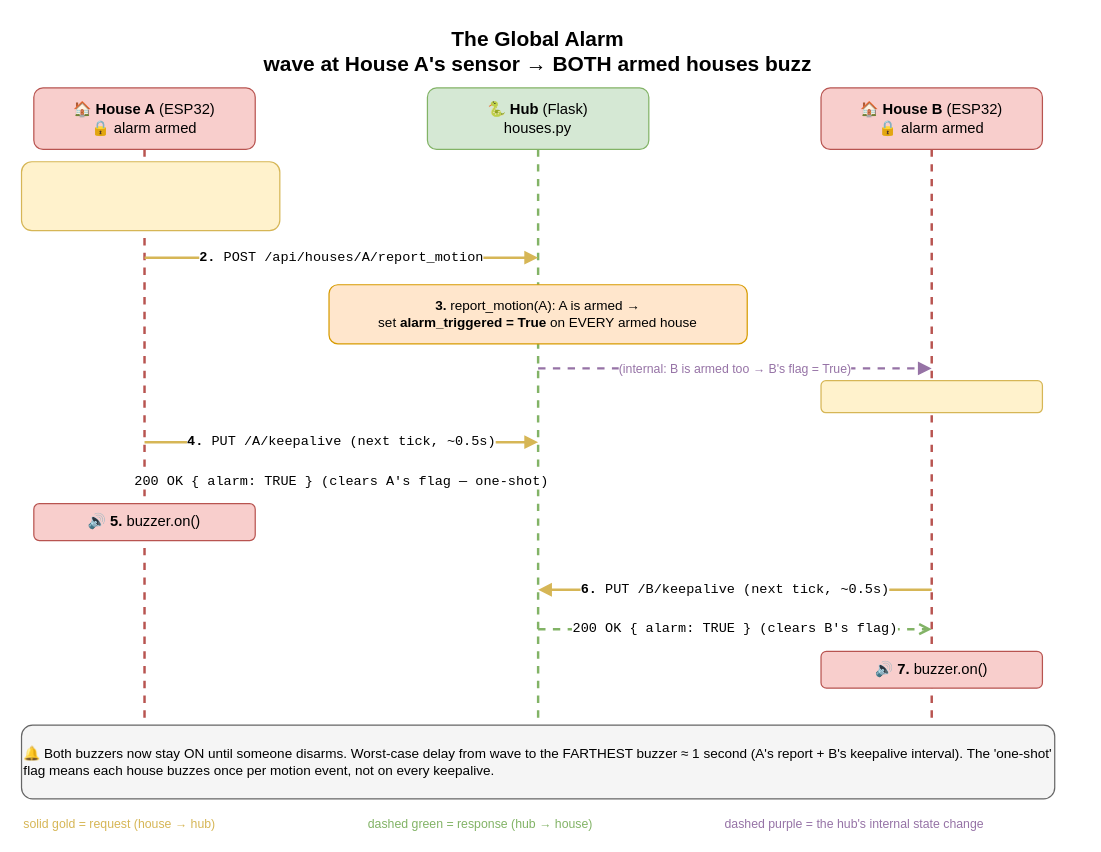
This 1101x852 diagram has some shape labels left out. The shapes that lost their labels are listed below. From the top down, each one's centre as x and y in pixels, then its label:
At pixel 150 196: "👋 1. You wave at House A's PIR → pin 0→1 fires the IRQ → motion flag set".
At pixel 931 396: "🚩 alarm_triggered = True".
